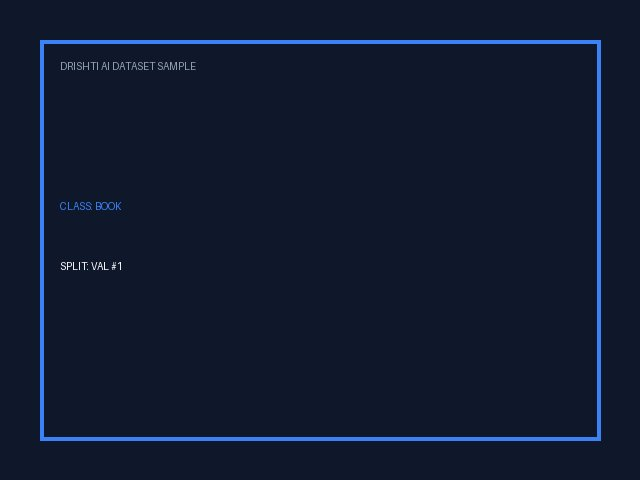book: (202, 114, 423, 388)
